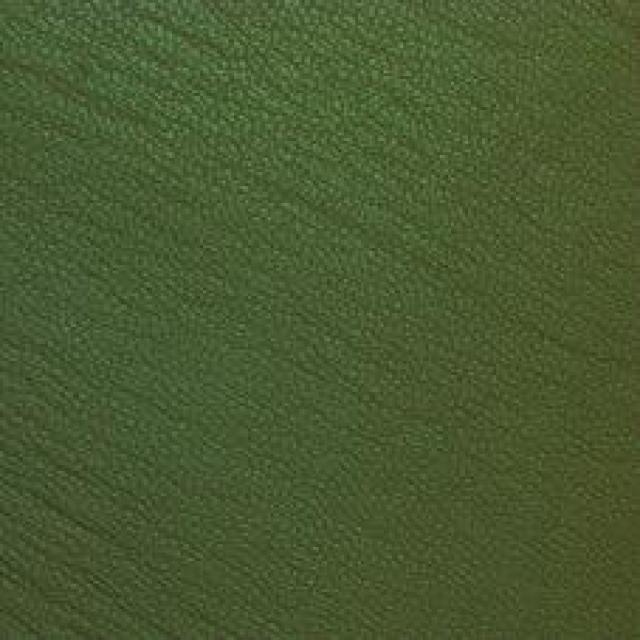Growth Marks: (20, 13, 238, 175), (19, 416, 165, 614), (290, 169, 460, 280)
